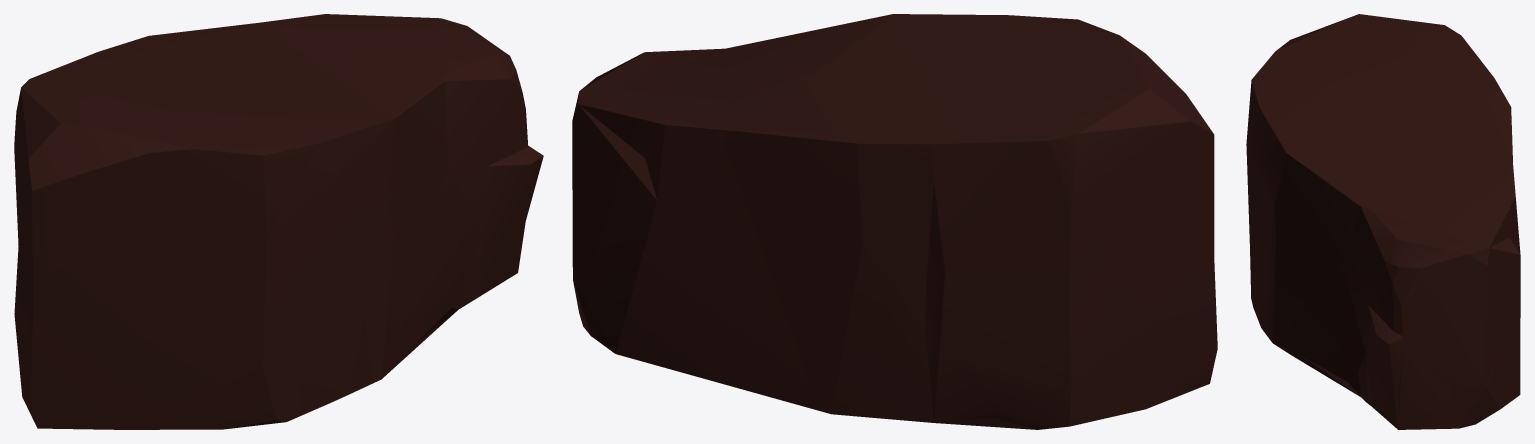
The model's file is SM_Venus_Rock_02.fbx.
3 views of the same model, side by side, from view 1: azimuth 30°, elevation 25°; view 2: azimuth 150°, elevation 25°; view 3: azimuth 270°, elevation 25° (orthographic). The views are drawn at different scales.
Visible parts, largest first — view 1: SM_Venus_Rock_Venus_02, SM_Venus_Rock_02_col; view 2: SM_Venus_Rock_Venus_02, SM_Venus_Rock_02_col; view 3: SM_Venus_Rock_Venus_02, SM_Venus_Rock_02_col.
Boxes of the visible parts, box(x1,y1,x2,y2) form: SM_Venus_Rock_Venus_02: box(14, 14, 543, 429); SM_Venus_Rock_02_col: box(14, 79, 517, 429); SM_Venus_Rock_Venus_02: box(572, 14, 1217, 429); SM_Venus_Rock_02_col: box(578, 104, 1214, 429); SM_Venus_Rock_Venus_02: box(1246, 14, 1520, 429); SM_Venus_Rock_02_col: box(1246, 109, 1520, 429).
Size of the model in its own units: 616 by 314 by 333.
